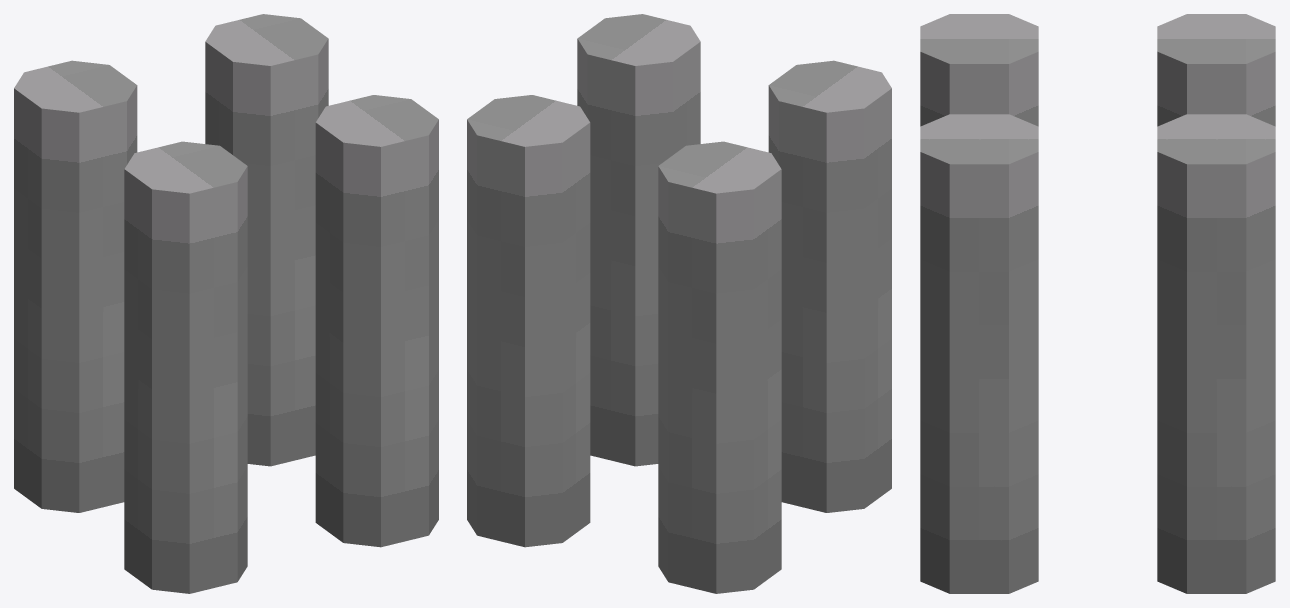
The model's file is rbmk_element_rods.obj.
The picture shows the model from 3 angles, left to right: view 1: azimuth 30°, elevation 25°; view 2: azimuth 150°, elevation 25°; view 3: azimuth 270°, elevation 25°; orthographic projection. The views are drawn at different scales.
Visible parts, largest first — view 1: Rods; view 2: Rods; view 3: Rods.
Part boxes in pixels (left/top/right/bottom): Rods: left=14, top=14, right=438, bottom=593; Rods: left=467, top=14, right=891, bottom=593; Rods: left=920, top=14, right=1275, bottom=593.
Size of the model in its own units: 0.75 by 1 by 0.75.
